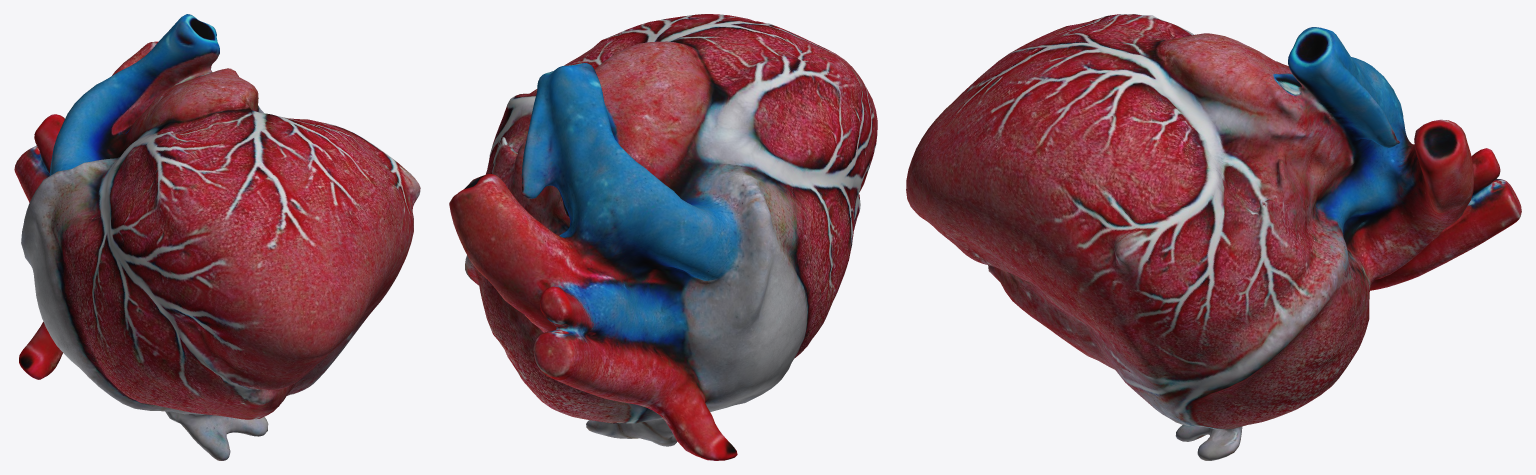
3 renders of one model, left to right at view 1: azimuth 30°, elevation 25°; view 2: azimuth 150°, elevation 25°; view 3: azimuth 270°, elevation 25°, orthographic. The views are drawn at different scales.
Parts seen in each view (by area): view 1: mesh; view 2: mesh; view 3: mesh.
Boxes of the visible parts, bbox=[...] form: mesh: bbox=[14, 14, 420, 460]; mesh: bbox=[449, 14, 877, 460]; mesh: bbox=[906, 14, 1521, 460].
Size of the model in its own units: 69.84 by 82.86 by 108.
Materials: 2 (1 with a texture image).
